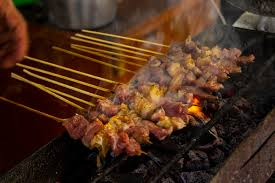sate: (48, 23, 262, 161)
